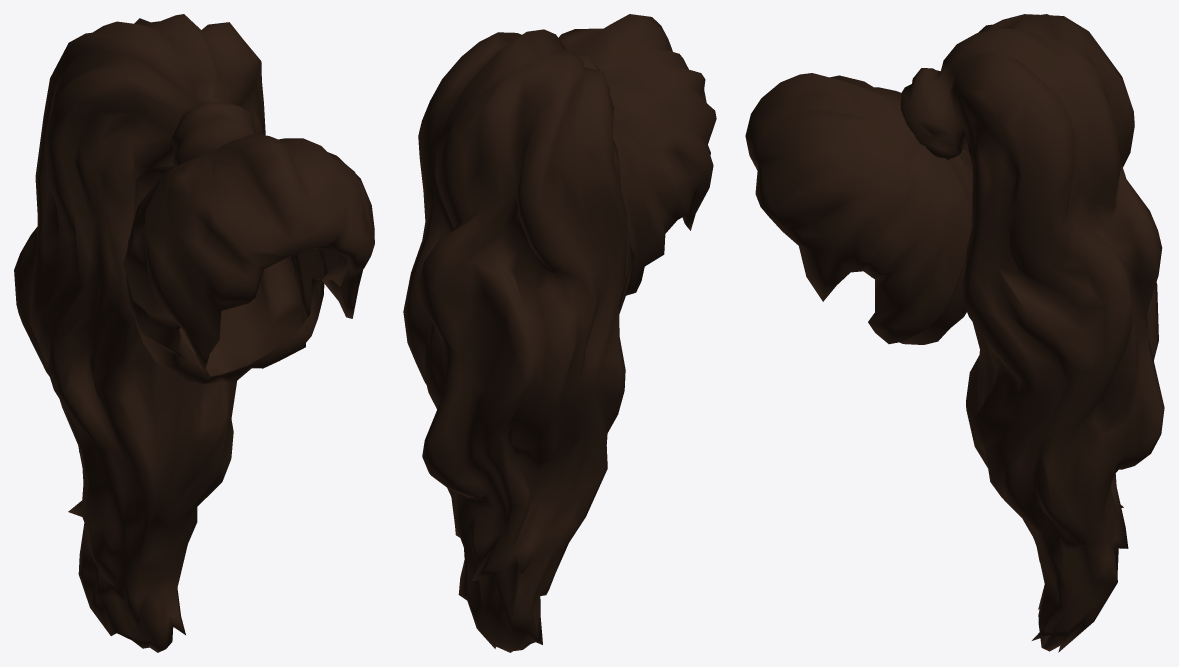
File: hair.glb
3 renders of one model, left to right at view 1: azimuth 30°, elevation 25°; view 2: azimuth 150°, elevation 25°; view 3: azimuth 270°, elevation 25°, orthographic. The views are drawn at different scales.
Parts seen in each view (by area): view 1: Wolf3D_Hair; view 2: Wolf3D_Hair; view 3: Wolf3D_Hair.
Part boxes in pixels (x1,y1,x2,y2): Wolf3D_Hair: (14,14,374,652); Wolf3D_Hair: (403,14,716,652); Wolf3D_Hair: (745,14,1164,652).
Size of the model in its own units: 0.1924 by 0.5525 by 0.3354.
1 material, 1 textured.
